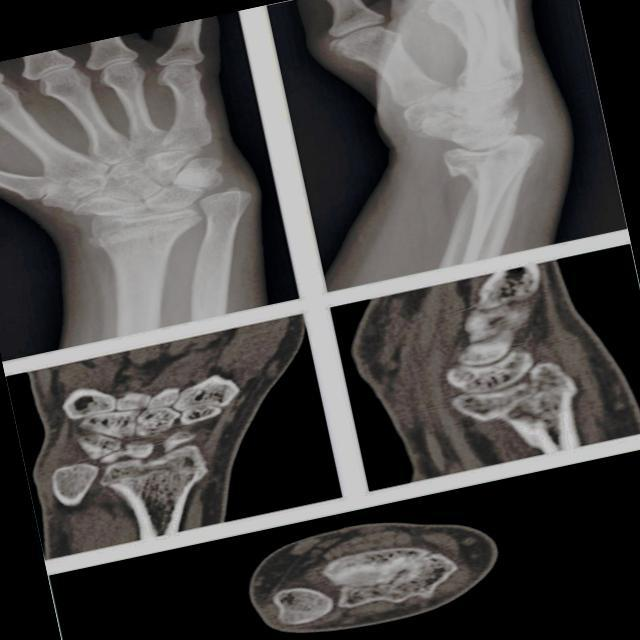Intra-articular fracture: (195, 144, 252, 242), (31, 457, 119, 508)
